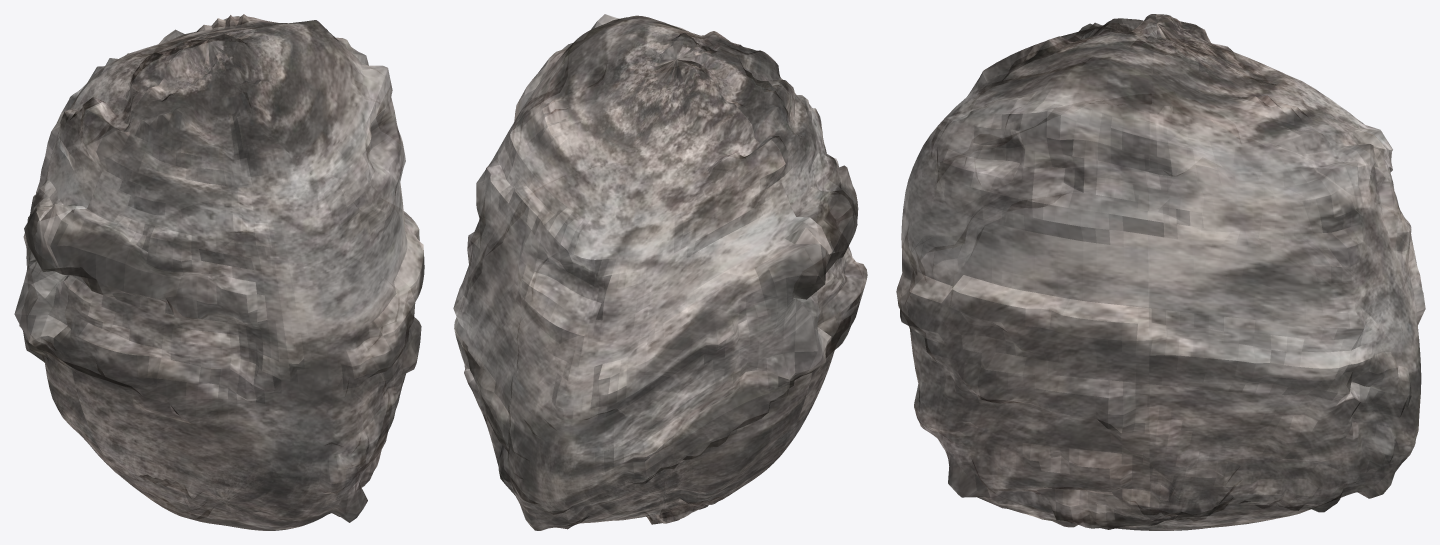
File: Asteroide2006QU89.gltf
3 views of the same model, side by side, from view 1: azimuth 30°, elevation 25°; view 2: azimuth 150°, elevation 25°; view 3: azimuth 270°, elevation 25° (orthographic). The views are drawn at different scales.
Parts seen in each view (by area): view 1: Sphere; view 2: Sphere; view 3: Sphere.
Part boxes in pixels (left/top/right/bottom): Sphere: left=14, top=14, right=424, bottom=530; Sphere: left=453, top=14, right=867, bottom=530; Sphere: left=896, top=14, right=1425, bottom=530.
Bounding box in the file's own units: 1.28 × 1.7 × 1.6.
1 material, 1 textured.
